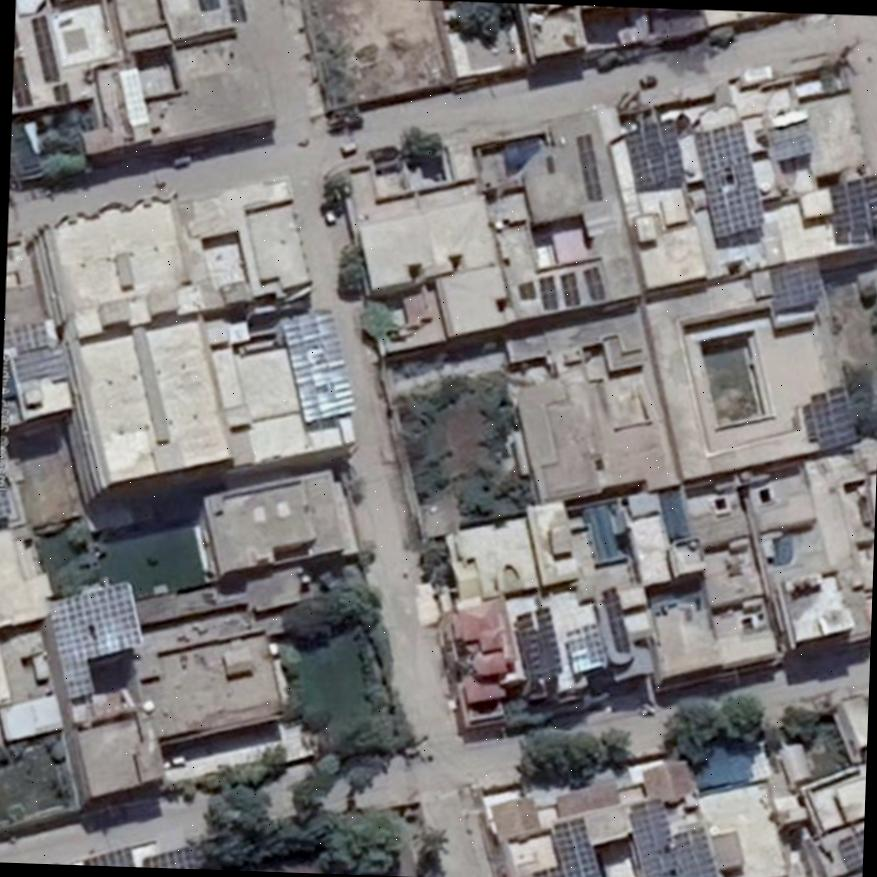Solarpanel: (49, 582, 151, 699), (692, 120, 762, 233), (630, 787, 714, 877), (624, 120, 682, 188), (515, 606, 560, 680), (550, 815, 599, 877), (767, 257, 821, 313), (828, 174, 877, 234), (813, 386, 856, 451), (601, 584, 631, 651), (576, 135, 600, 200), (143, 843, 194, 869), (83, 845, 133, 866), (839, 831, 864, 872), (11, 323, 46, 350), (583, 266, 604, 300), (559, 273, 577, 307), (538, 275, 555, 309), (0, 478, 10, 519), (520, 280, 534, 299)
